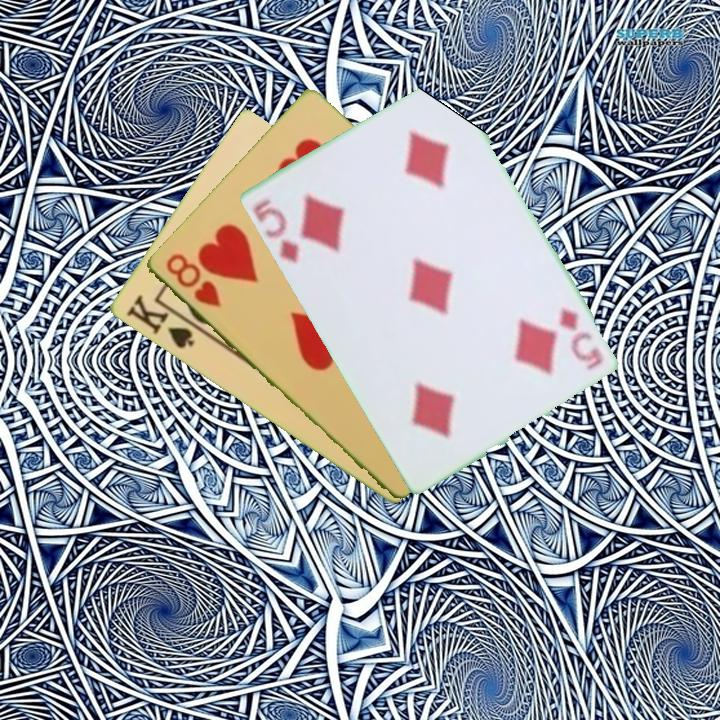5d: (248, 195, 302, 267), (555, 303, 606, 373)
8h: (162, 250, 224, 310)
Ks: (122, 291, 197, 352)
